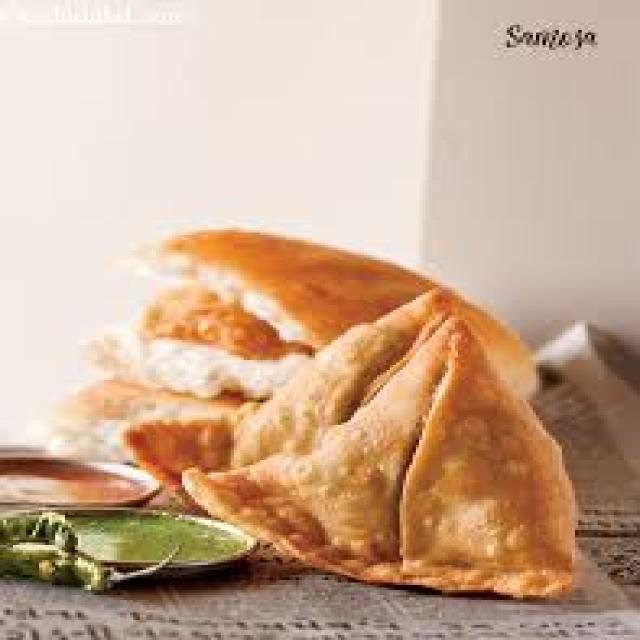SAMOSA: (198, 320, 581, 591), (130, 291, 441, 476)
